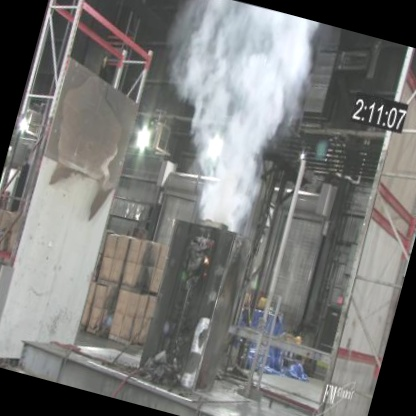smoke: (145, 0, 313, 235)
